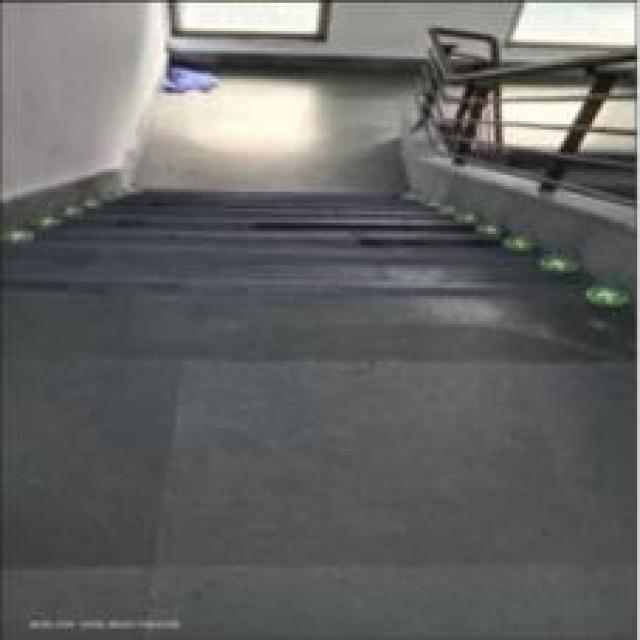stair: (48, 189, 468, 364)
